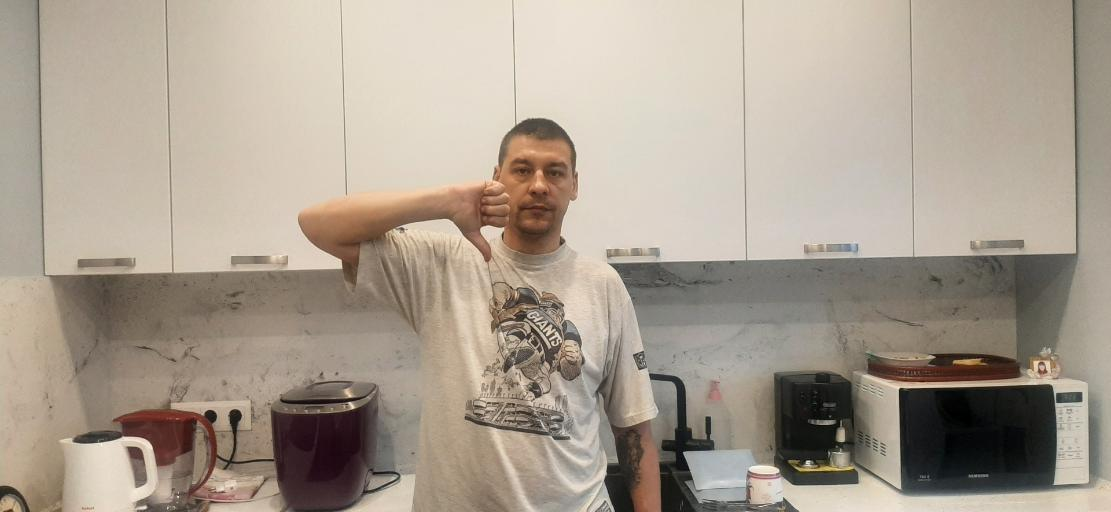dislike: (448, 179, 513, 265)
